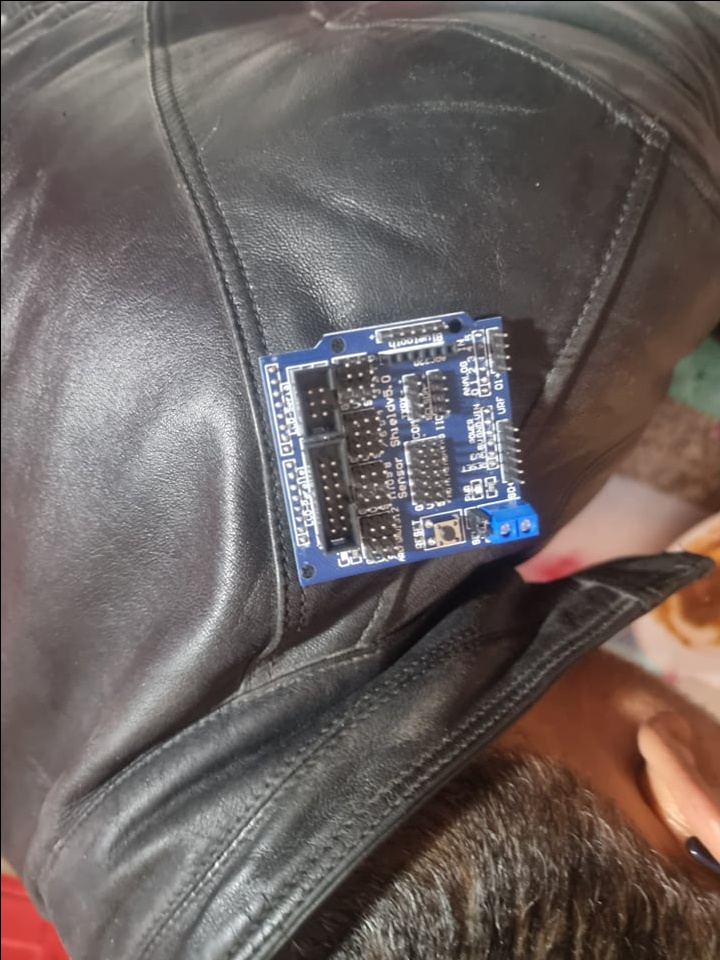5V EXPANSION: (254, 310, 541, 590)
